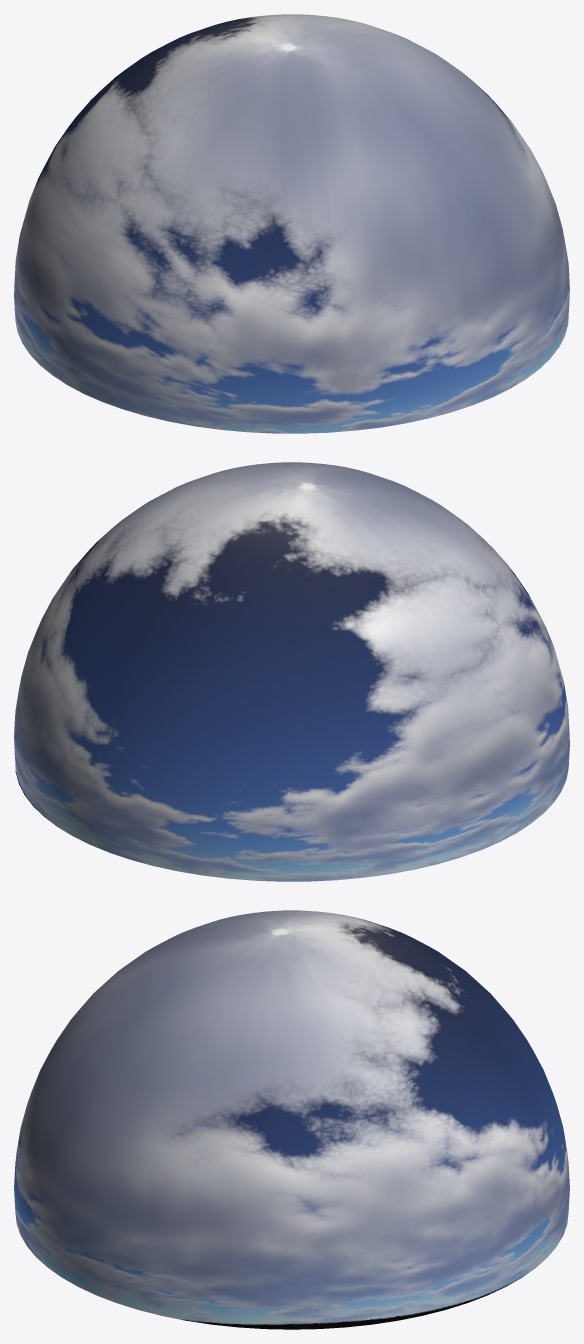
The model's file is landscape.obj.
3 views of the same model, one above another, from view 1: azimuth 30°, elevation 25°; view 2: azimuth 150°, elevation 25°; view 3: azimuth 270°, elevation 25° (orthographic).
Parts seen in each view (by area): view 1: Sphere; view 2: Sphere; view 3: Sphere.
Boxes of the visible parts, bbox=[...] form: Sphere: bbox=[14, 14, 569, 433]; Sphere: bbox=[14, 462, 569, 881]; Sphere: bbox=[14, 910, 569, 1329].
Bounding box in the file's own units: 505 × 277 × 505.
